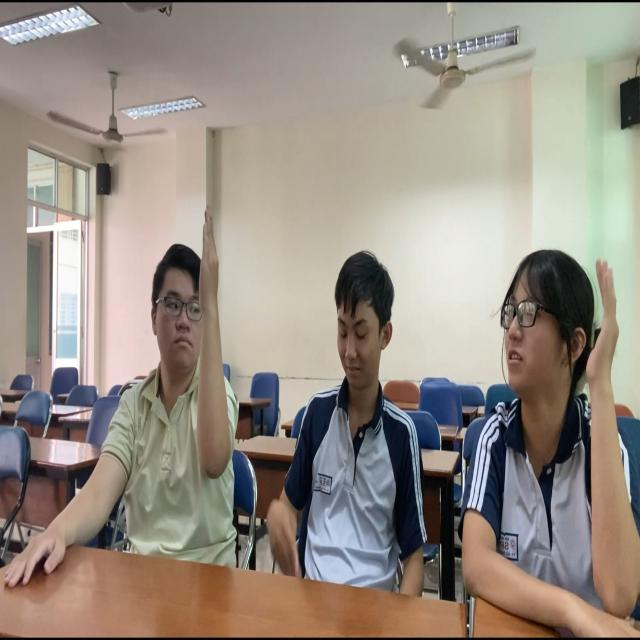raise_hand: (476, 233, 640, 637), (123, 191, 247, 554)
